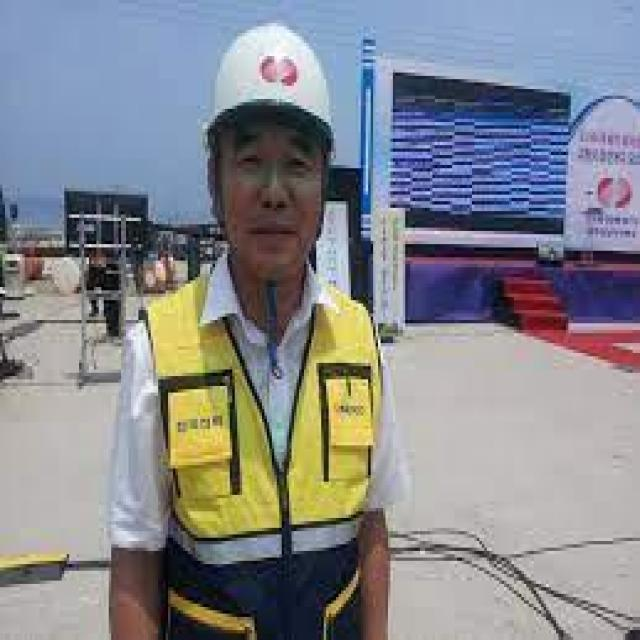helmet: (203, 23, 336, 149)
